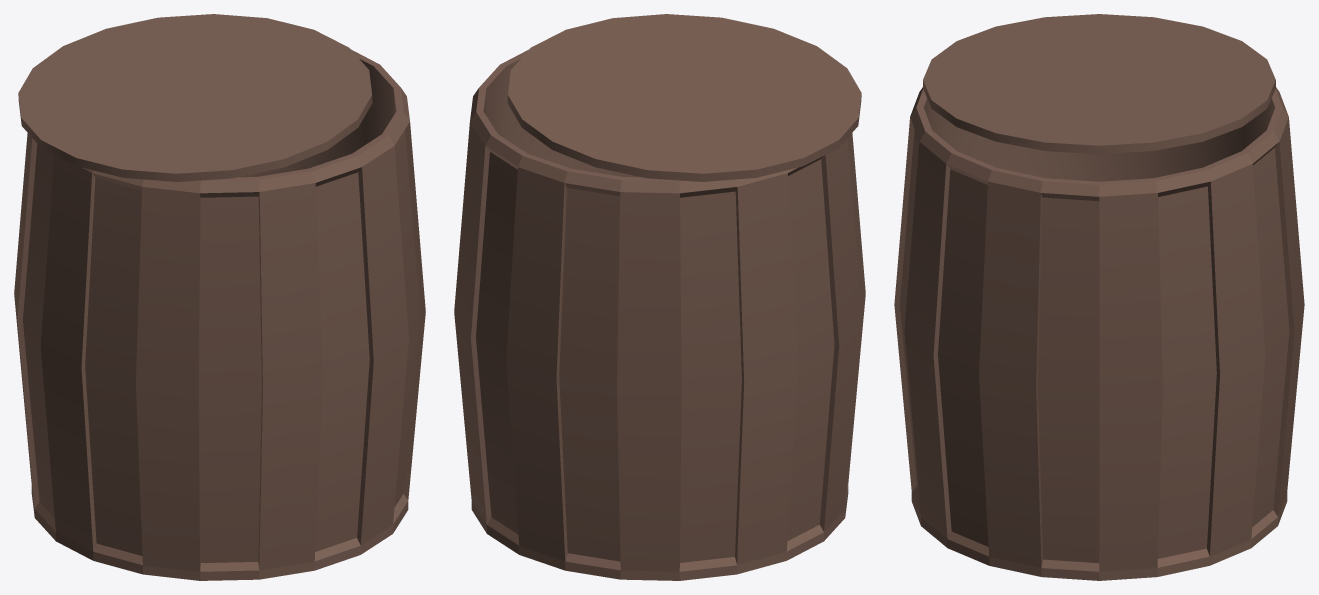
File: Cratehard_Model.fbx
3 views of the same model, side by side, from view 1: azimuth 30°, elevation 25°; view 2: azimuth 150°, elevation 25°; view 3: azimuth 270°, elevation 25° (orthographic).
Visible parts, largest first — view 1: hardbarrel; view 2: hardbarrel; view 3: hardbarrel.
Part boxes in pixels (x1,y1,x2,y2): hardbarrel: (14, 14, 425, 580); hardbarrel: (454, 14, 865, 580); hardbarrel: (894, 14, 1304, 580).
Size of the model in its own units: 89.73 by 101 by 89.73.
1 material, 1 textured.
